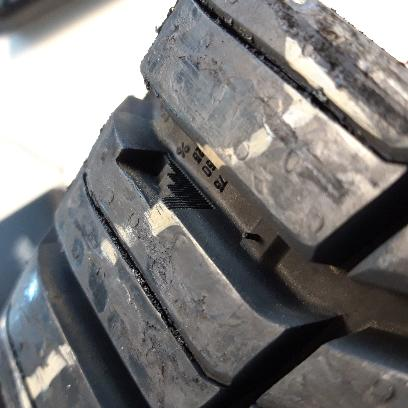temoin:100: (114, 146, 219, 217)
